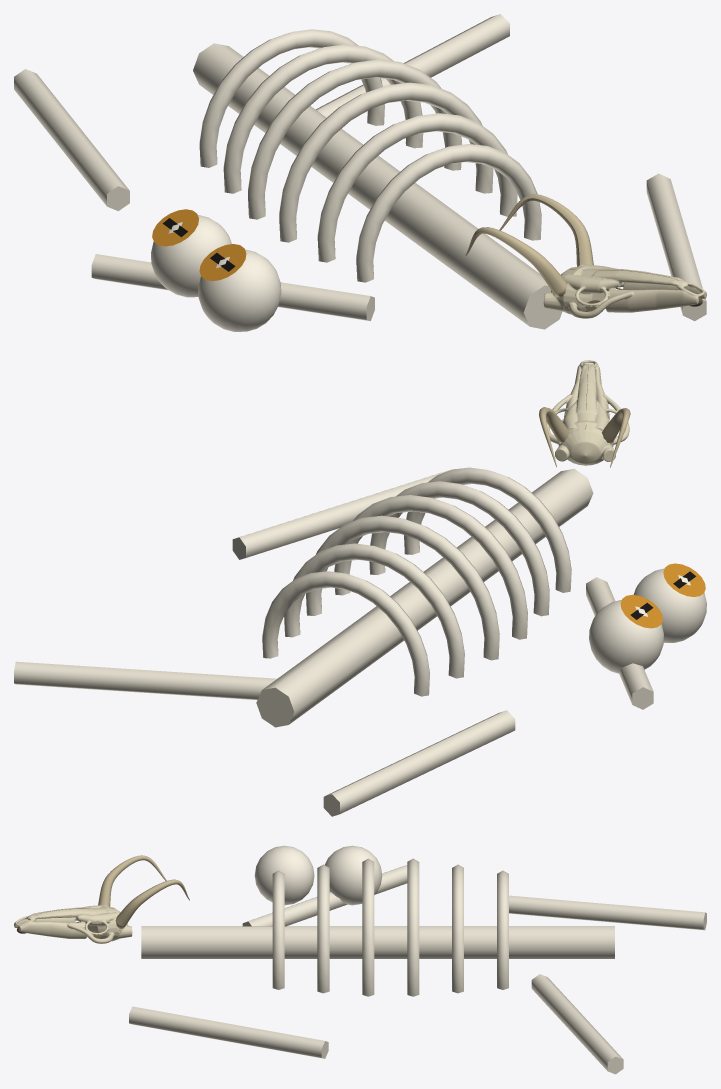
Rendered from props_p8__p8_bones.glb.
3 renders of one model, top to bottom at view 1: azimuth 30°, elevation 25°; view 2: azimuth 150°, elevation 25°; view 3: azimuth 270°, elevation 25°, orthographic. The views are drawn at different scales.
Visible parts, largest first — view 1: bone_rib (×6), bone_spine, bone_leg (×4), eye_white (×2), sculpted_deer_bone, eye_iris (×2), goat_horn_-1, goat_horn_1; view 2: bone_rib (×6), bone_leg (×4), bone_spine, eye_white (×2), sculpted_deer_bone, eye_iris (×2), goat_horn_1; view 3: bone_spine, bone_leg (×4), bone_rib (×6), eye_white (×2), sculpted_deer_bone, goat_horn_1, goat_horn_-1.
Boxes of the visible parts, bbox=[...] form: bone_rib (×6): bbox=[199, 29, 541, 282]; bone_spine: bbox=[193, 43, 562, 329]; bone_leg (×4): bbox=[14, 14, 706, 321]; eye_white (×2): bbox=[151, 215, 281, 331]; sculpted_deer_bone: bbox=[543, 264, 706, 318]; eye_iris (×2): bbox=[152, 209, 246, 281]; goat_horn_-1: bbox=[465, 227, 566, 297]; goat_horn_1: bbox=[499, 194, 593, 266]; bone_rib (×6): bbox=[262, 467, 571, 696]; bone_leg (×4): bbox=[14, 470, 653, 816]; bone_spine: bbox=[256, 468, 593, 727]; eye_white (×2): bbox=[589, 568, 706, 673]; sculpted_deer_bone: bbox=[546, 360, 629, 465]; eye_iris (×2): bbox=[620, 563, 705, 628]; goat_horn_1: bbox=[539, 407, 569, 467]; bone_spine: bbox=[141, 926, 614, 958]; bone_leg (×4): bbox=[129, 865, 706, 1074]; bone_rib (×6): bbox=[272, 858, 508, 996]; eye_white (×2): bbox=[254, 845, 382, 905]; sculpted_deer_bone: bbox=[14, 905, 132, 943]; goat_horn_1: bbox=[115, 879, 189, 928]; goat_horn_-1: bbox=[98, 855, 166, 906].
Bounding box in the file's own units: 0.9305 × 0.238 × 1.39.
